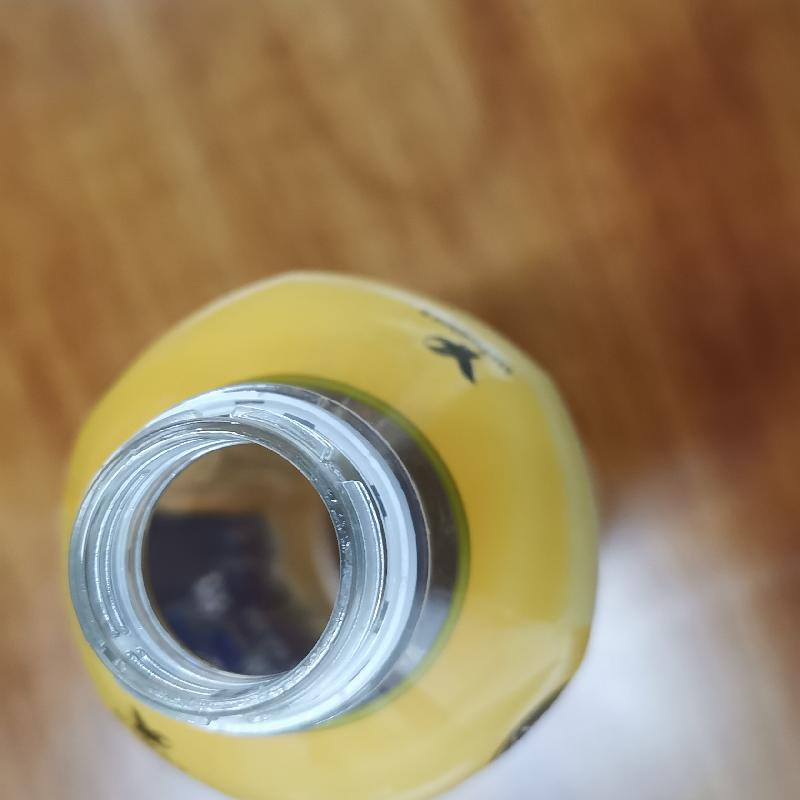bottles: (48, 264, 605, 798)
